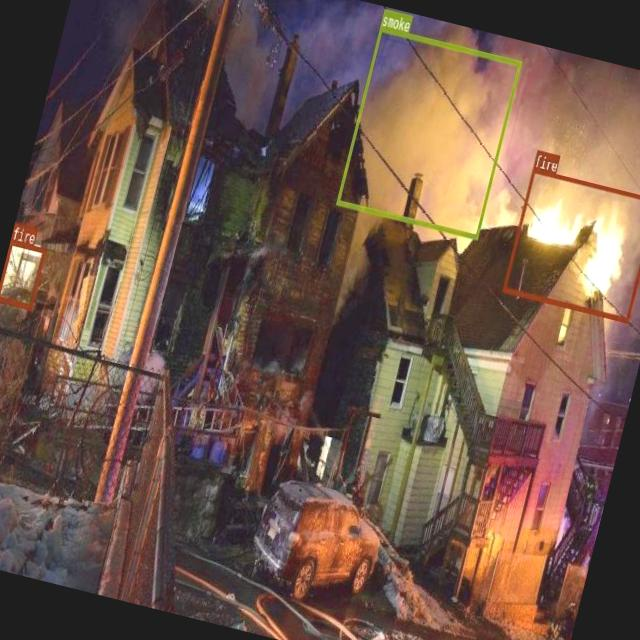fire: (501, 166, 640, 321), (0, 239, 46, 308)
smoke: (336, 25, 521, 238)
